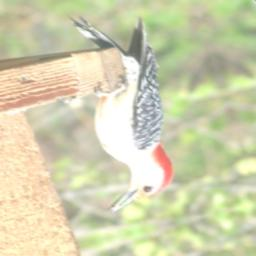Woodpecker: (43, 0, 200, 216)
